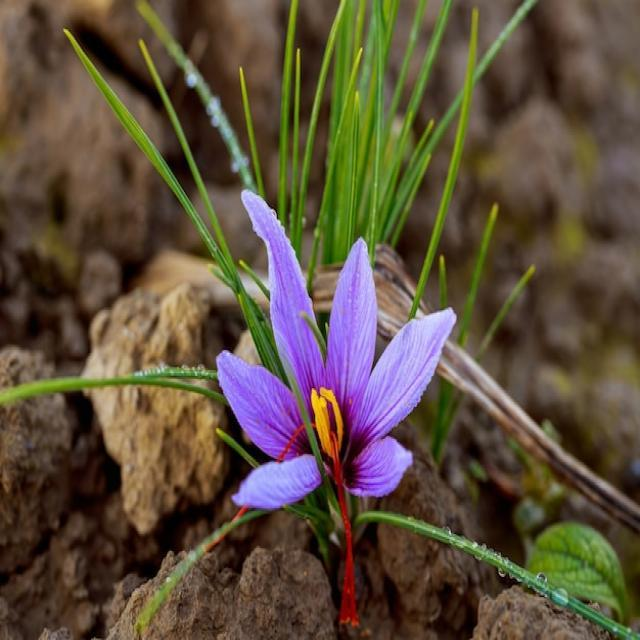Flower: (219, 184, 457, 518)
stigma: (332, 448, 360, 640)
